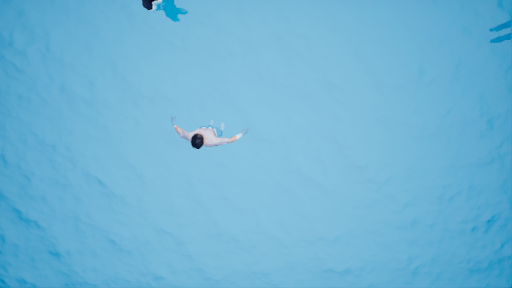person: (167, 110, 248, 154), (139, 1, 193, 26)
